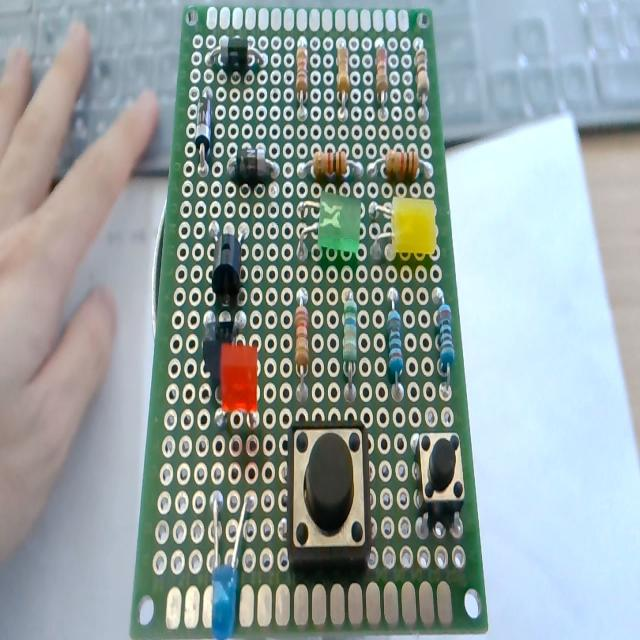diode: (196, 37, 273, 71), (187, 92, 217, 175), (226, 150, 280, 188)
led: (214, 469, 258, 634), (215, 338, 272, 434), (291, 191, 365, 261), (375, 198, 439, 268)
resistor: (426, 288, 458, 400), (385, 286, 408, 412), (291, 278, 315, 397), (336, 281, 358, 405), (294, 148, 364, 182), (371, 151, 437, 183), (294, 40, 316, 124), (332, 42, 354, 119), (374, 43, 396, 118), (412, 42, 432, 121)
switch: (288, 421, 378, 567), (408, 424, 469, 527)
transistor: (202, 211, 257, 297), (200, 321, 237, 387)
